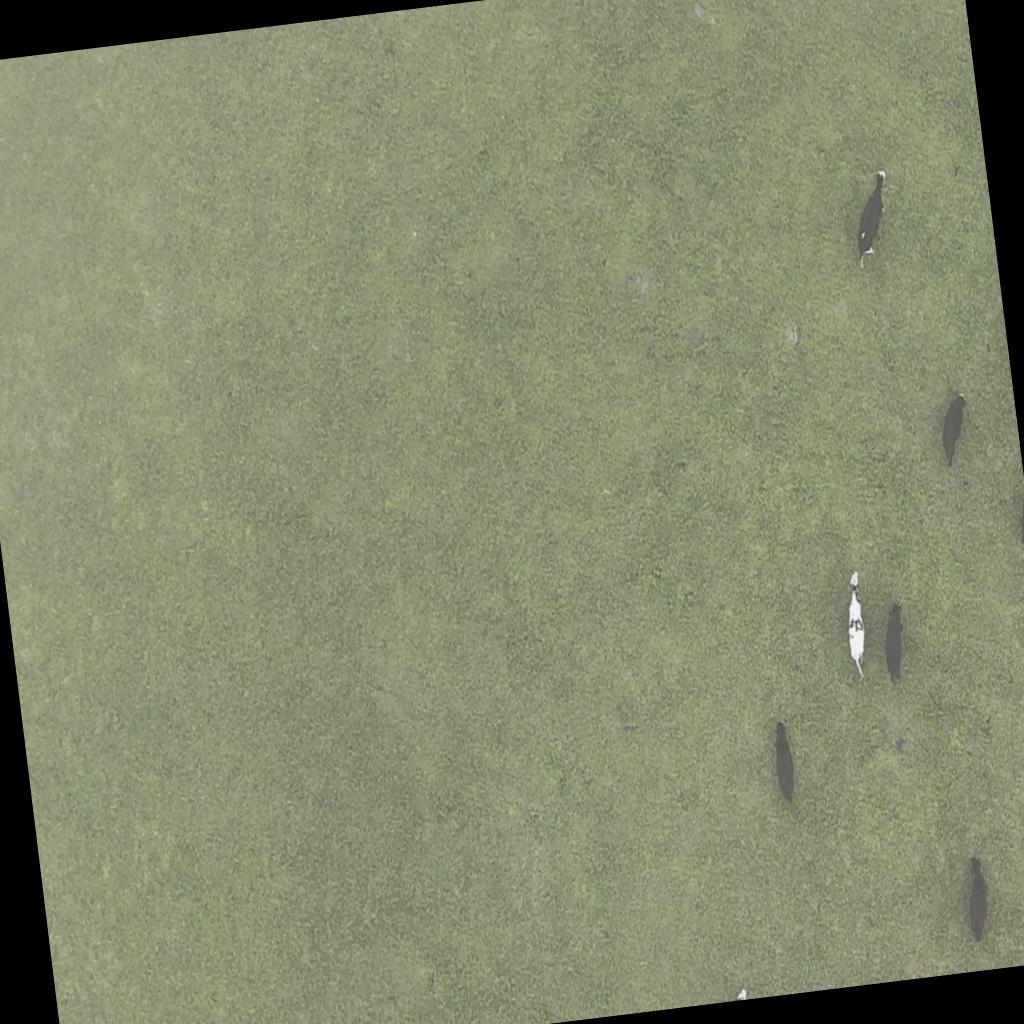cow: (844, 166, 898, 276), (840, 572, 872, 682), (960, 850, 994, 942), (935, 392, 974, 470), (878, 600, 911, 686), (770, 720, 798, 806)
